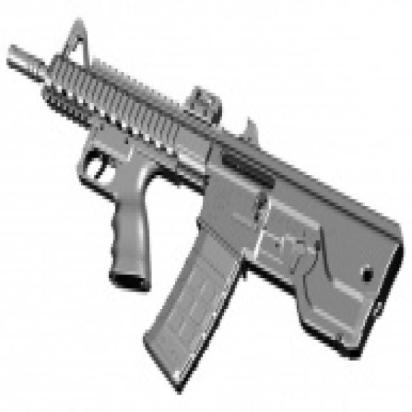Gun: (6, 8, 412, 412)
